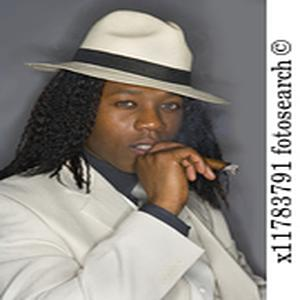cigarette: (199, 155, 244, 176)
